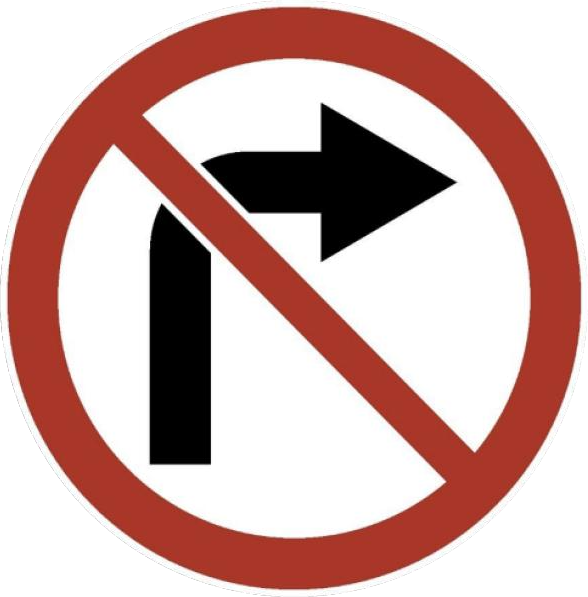no_turn_right: (9, 0, 559, 563)
